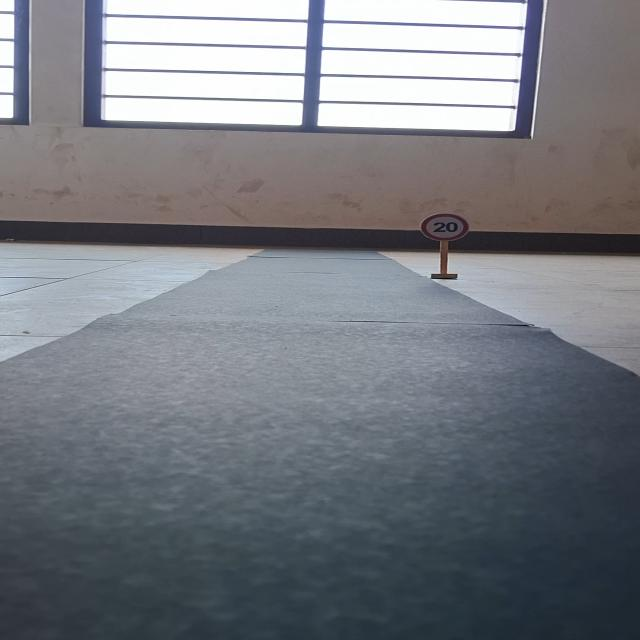Speed20: (413, 210, 478, 246)
